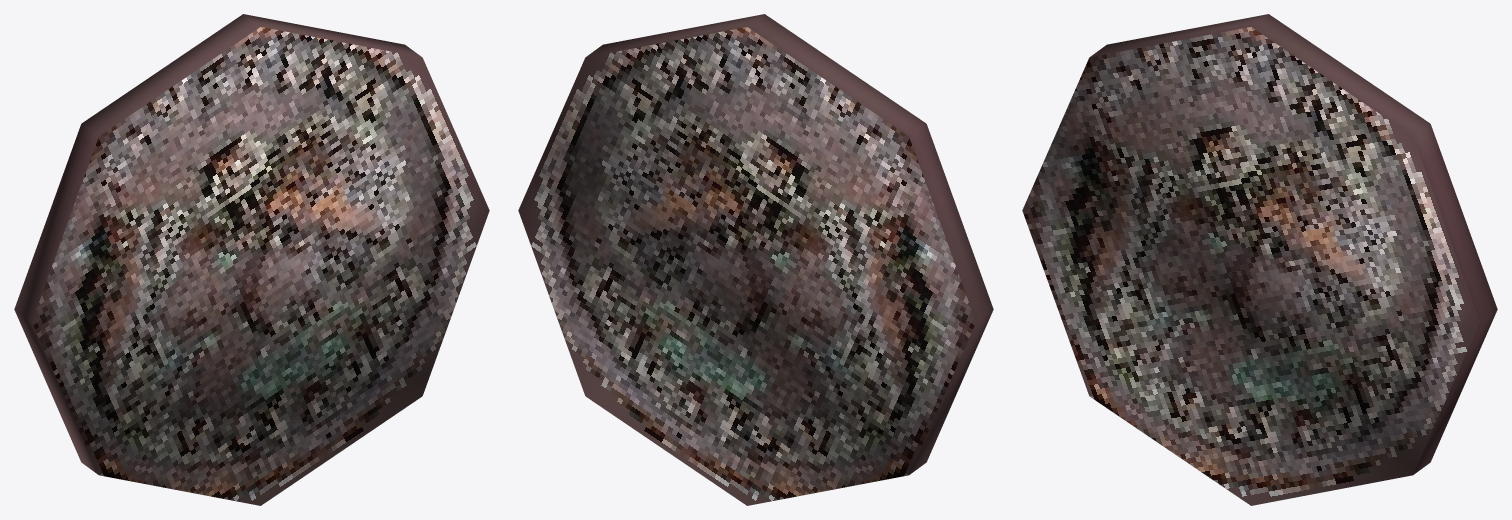
File: aventine_coins_sestertius.glb
3 renders of one model, left to right at view 1: azimuth 30°, elevation 25°; view 2: azimuth 150°, elevation 25°; view 3: azimuth 330°, elevation 25°, orthographic.
Parts seen in each view (by area): view 1: coin_02_sestertius; view 2: coin_02_sestertius; view 3: coin_02_sestertius.
Boxes of the visible parts, x1=… form: coin_02_sestertius: x1=14, y1=14, x2=489, y2=505; coin_02_sestertius: x1=518, y1=14, x2=993, y2=505; coin_02_sestertius: x1=1022, y1=14, x2=1497, y2=505.
Size of the model in its own units: 0.6009 by 0.6009 by 0.0399.
Materials: 1 (1 with a texture image).
